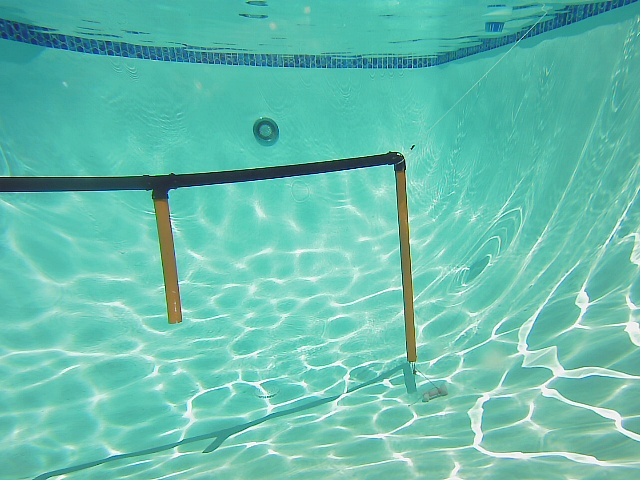Gate: (148, 193, 185, 323), (396, 169, 421, 358)
